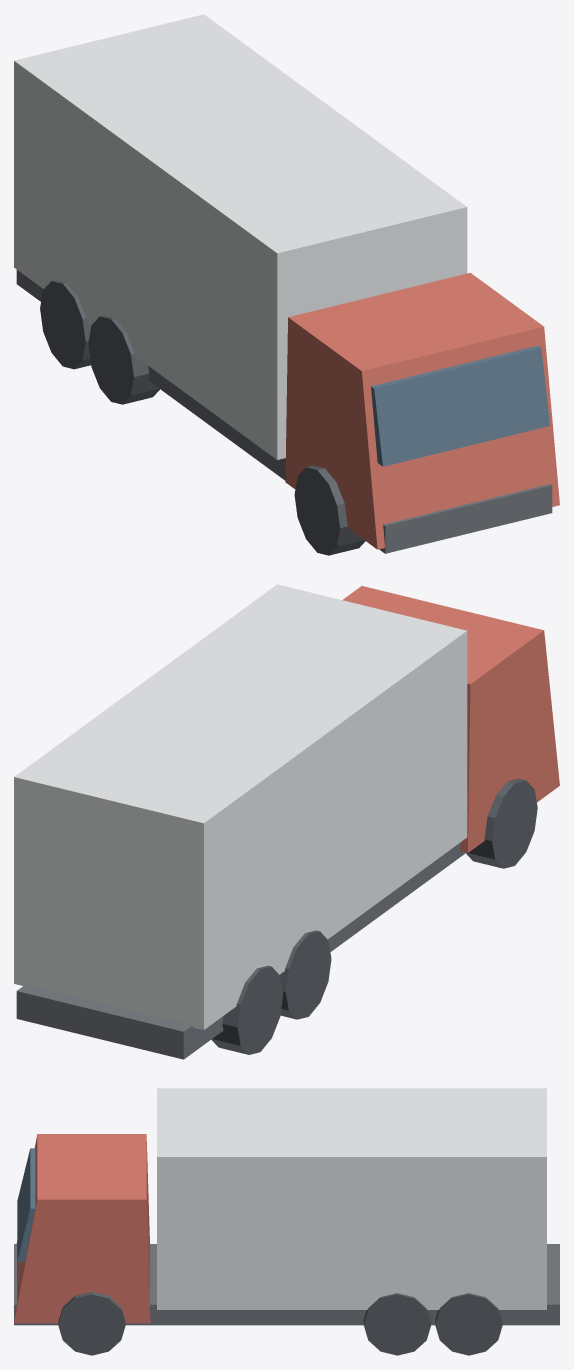
Rendered from synth_truck.glb.
3 renders of one model, top to bottom at view 1: azimuth 30°, elevation 25°; view 2: azimuth 150°, elevation 25°; view 3: azimuth 270°, elevation 25°, orthographic. The views are drawn at different scales.
Size of the model in its own units: 2.6 by 3.35 by 8.4.
